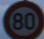Speed Limit -80-: (0, 0, 43, 38)
